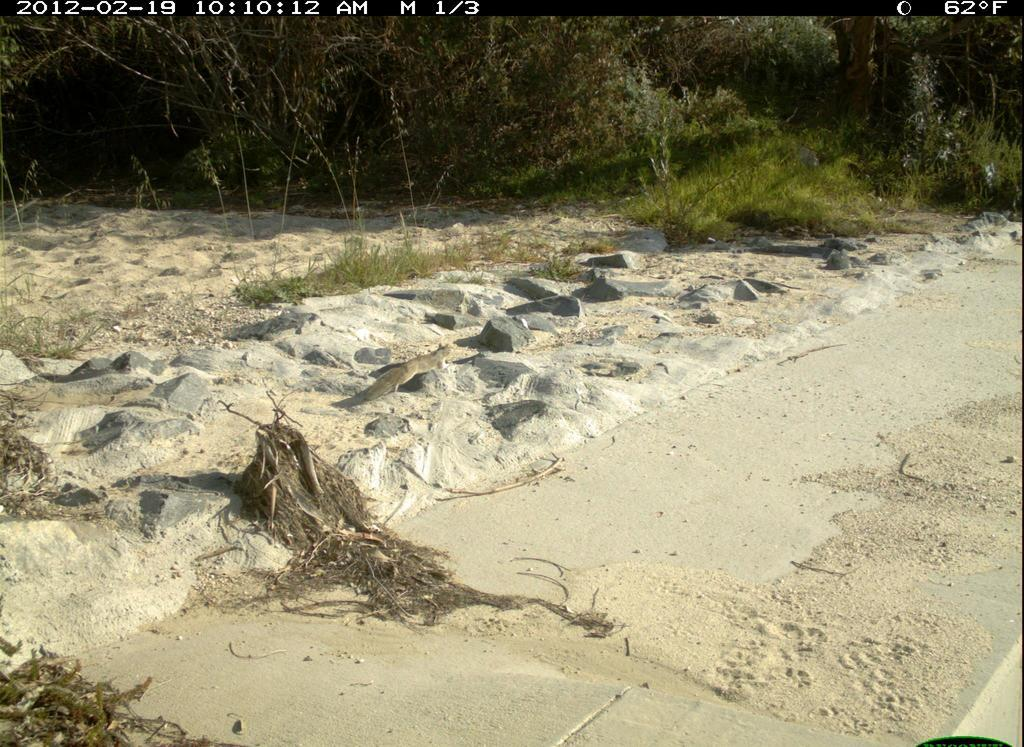squirrel: (338, 337, 454, 415)
